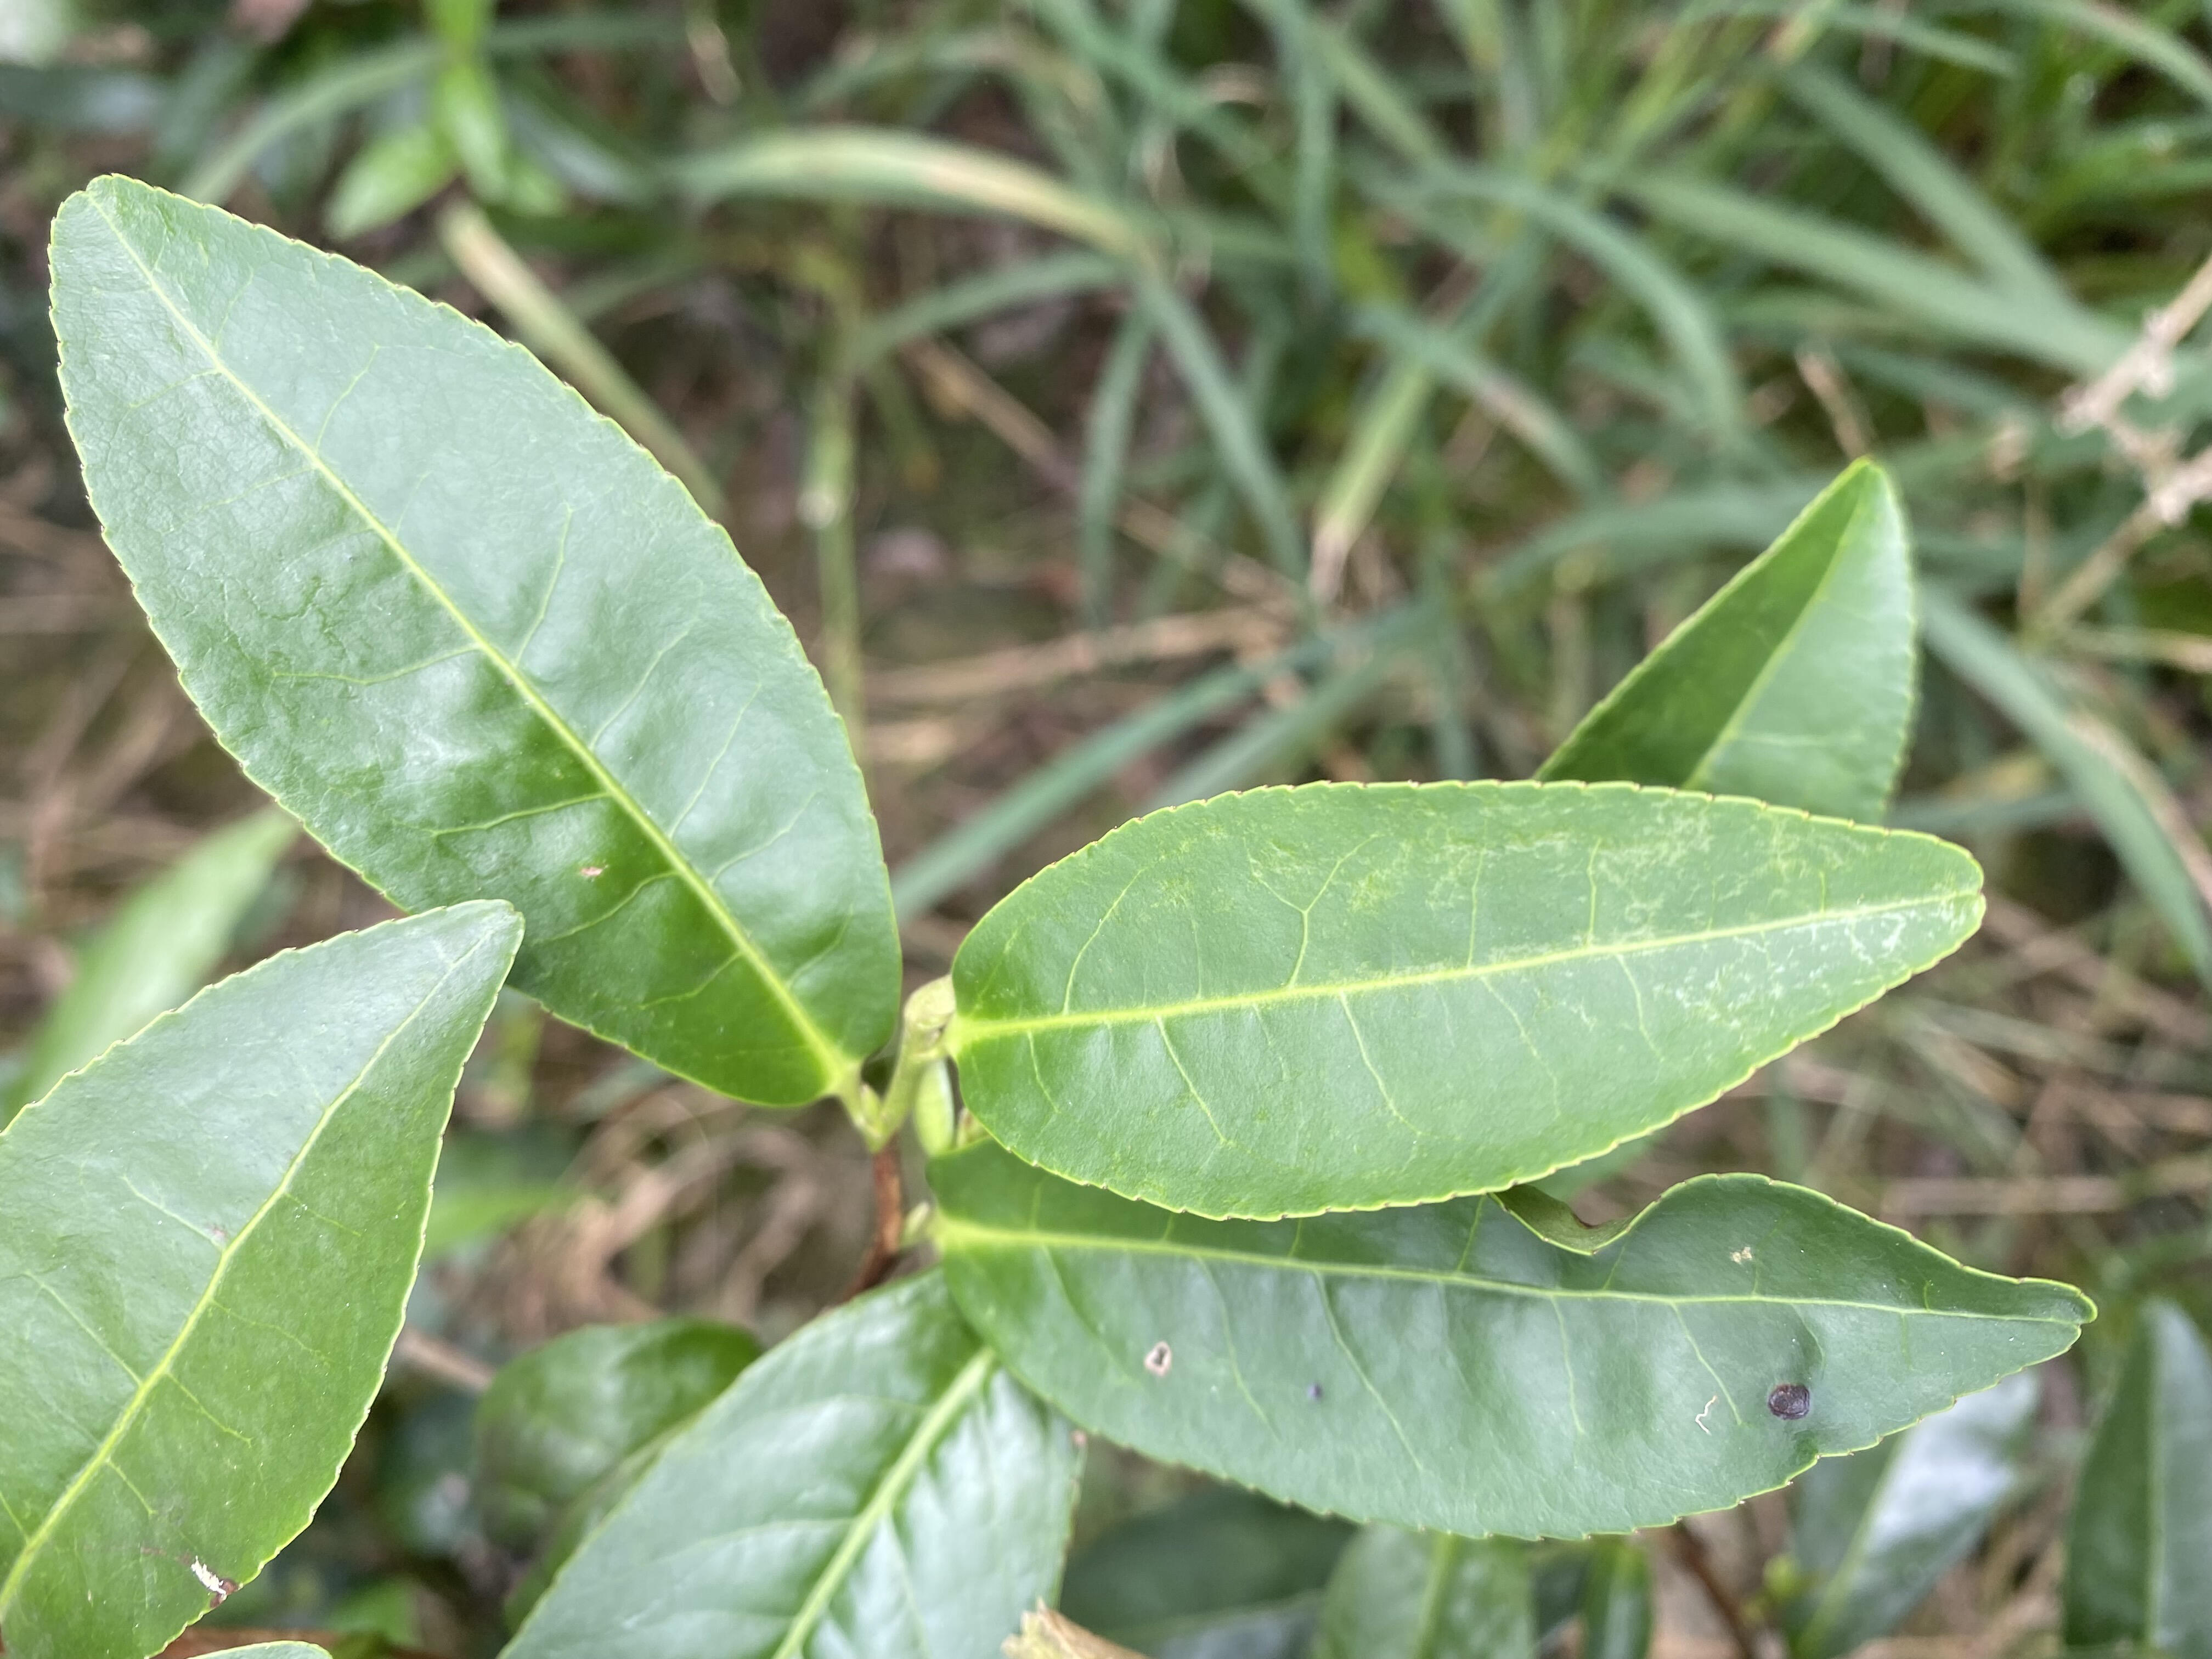healthy: (44, 171, 906, 1103), (948, 775, 1987, 1227)
tanju_low: (930, 1136, 2099, 1544), (3, 897, 524, 1657)
